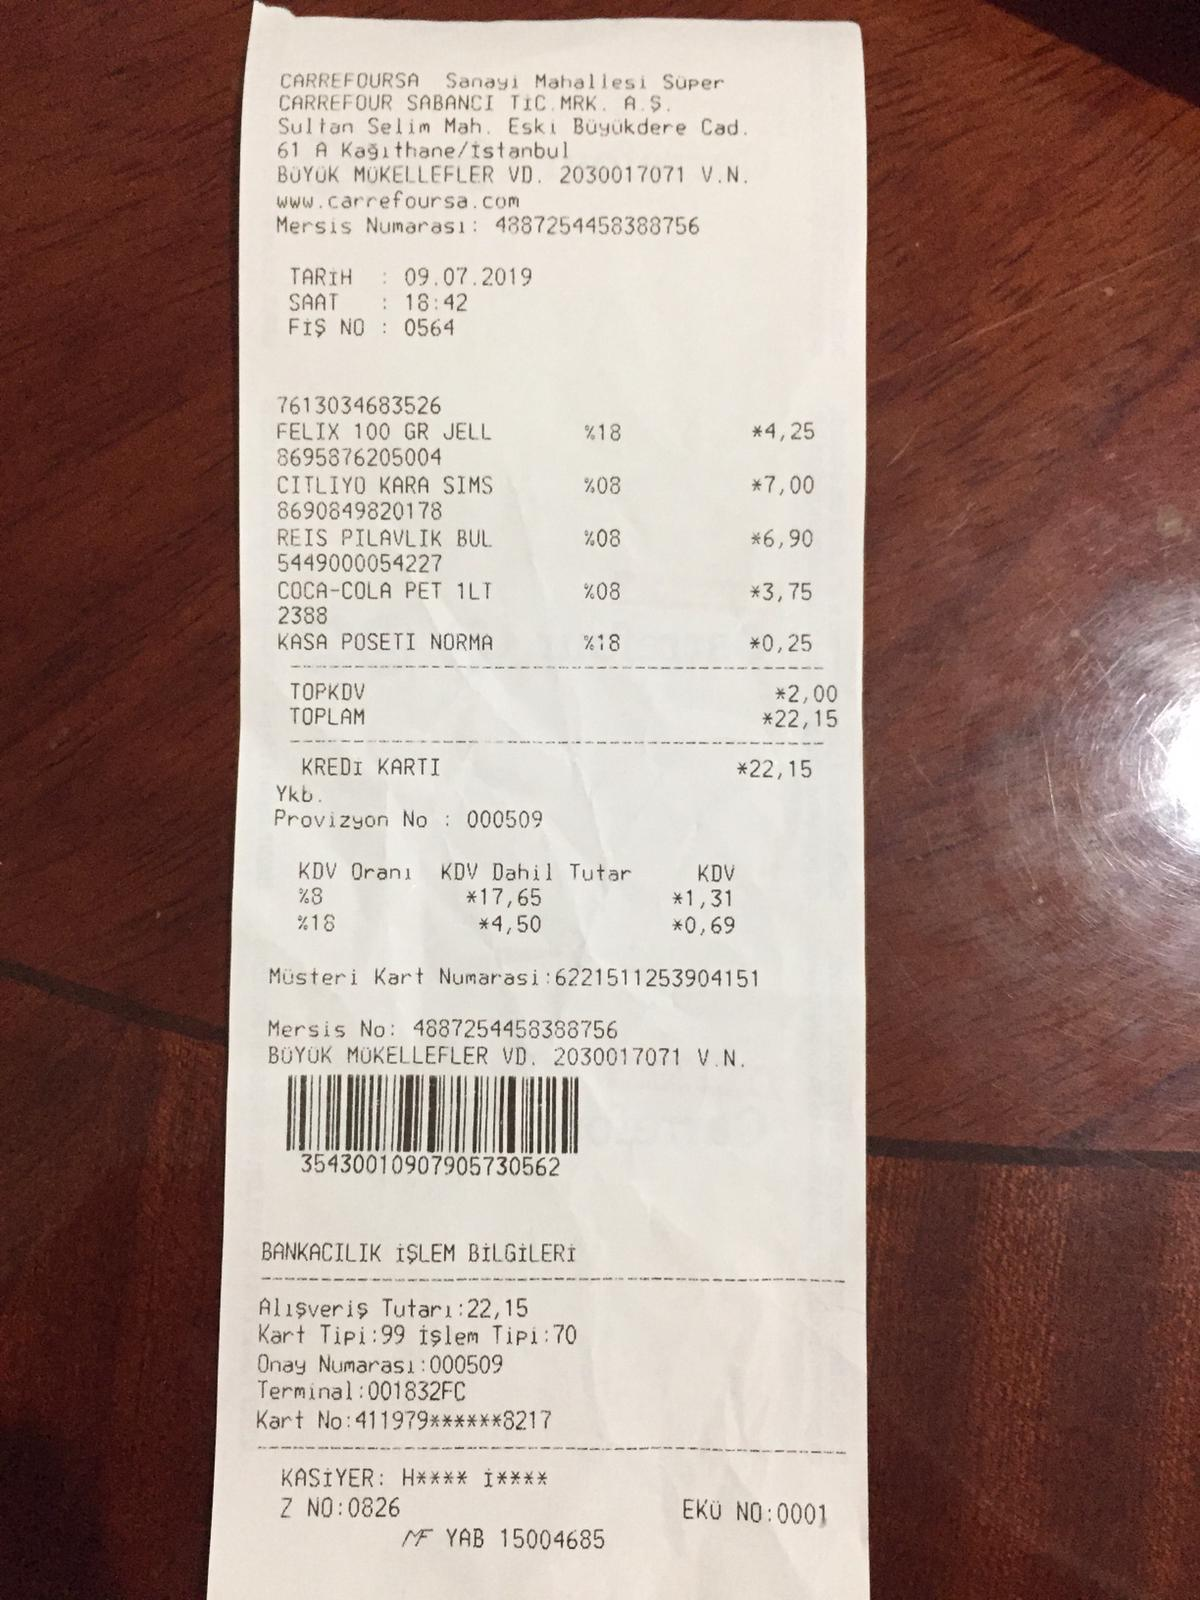total: (296, 703, 841, 735)
